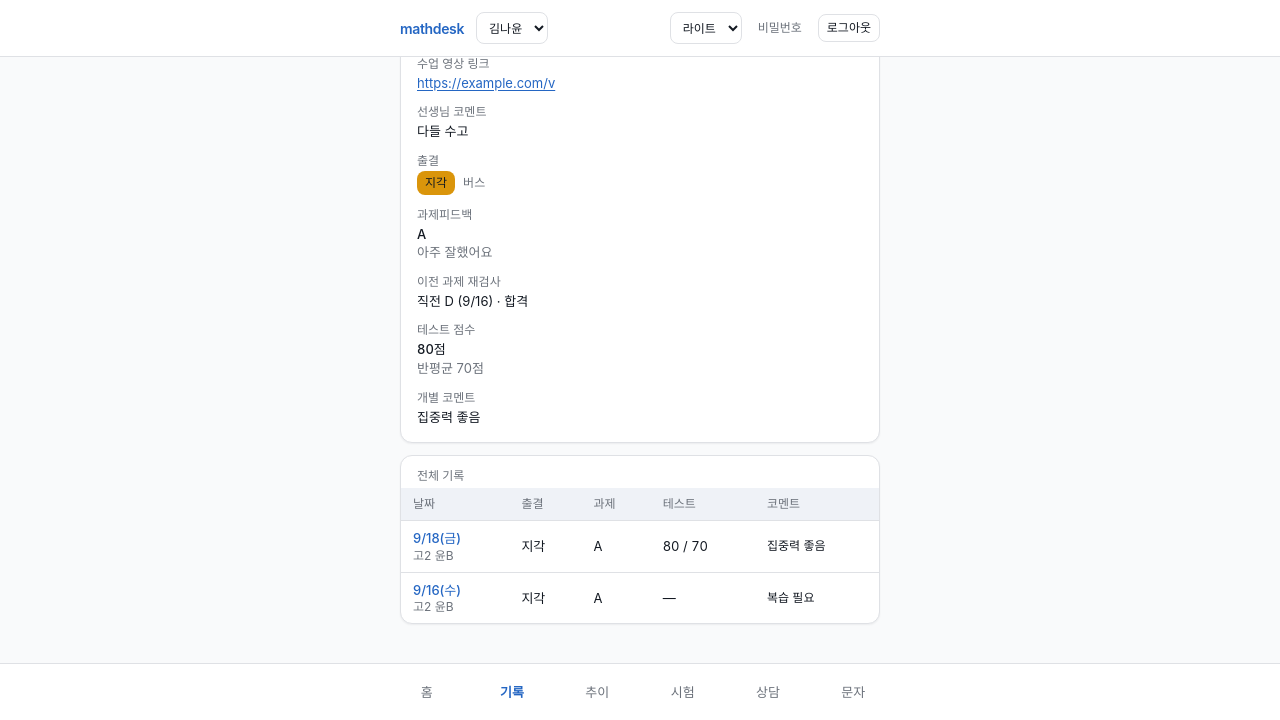
it: PortalApp › lists every record in one line and selects the day when a line is clicked
(page scrolled)
Expected: the text "복습 필요" is shown, [755,572,879,623]
Expected: the row "9/18(금) 고2 윤B 지각 A 80 / 70 집중력 좋음" is shown, [401,521,879,572]
Click the button "9/16(수)".
click(437, 590)  # box [413,581,461,599]
(page scrolled)
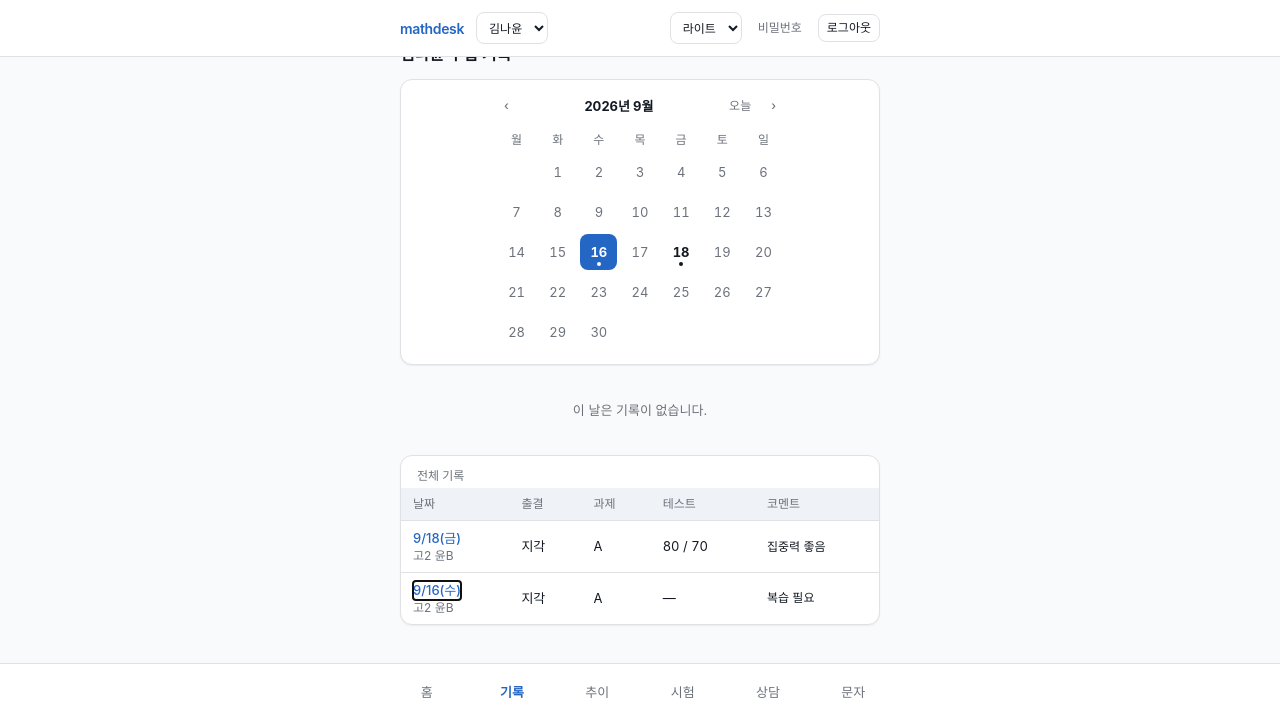
Expected: the text "이 날은 기록이 없습니다." is shown, [573,402,707,418]
